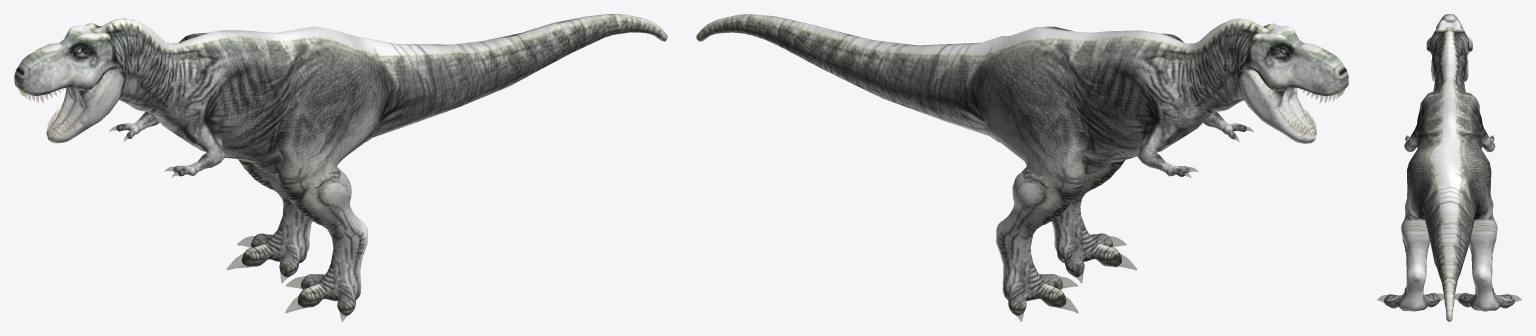
Rendered from T-Rex.glb.
3 renders of one model, left to right at view 1: azimuth 30°, elevation 25°; view 2: azimuth 150°, elevation 25°; view 3: azimuth 270°, elevation 25°, orthographic. The views are drawn at different scales.
Parts seen in each view (by area): view 1: T-Rex Model; view 2: T-Rex Model; view 3: T-Rex Model.
Boxes of the visible parts, x1,y1,x2,y2 form: T-Rex Model: [14, 14, 667, 321]; T-Rex Model: [696, 14, 1348, 321]; T-Rex Model: [1377, 14, 1521, 321].
Size of the model in its own units: 546 by 249 by 153.
4 materials, 3 textured.
